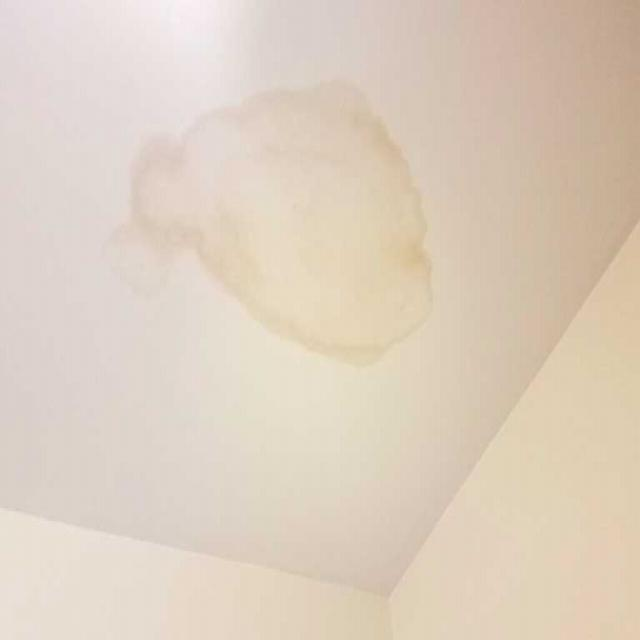leak: (104, 80, 438, 367)
